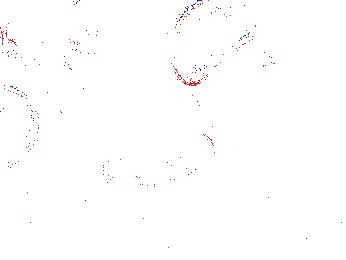moon jellyfish: (171, 1, 266, 86), (101, 125, 214, 185), (4, 1, 90, 51), (1, 83, 39, 169)
